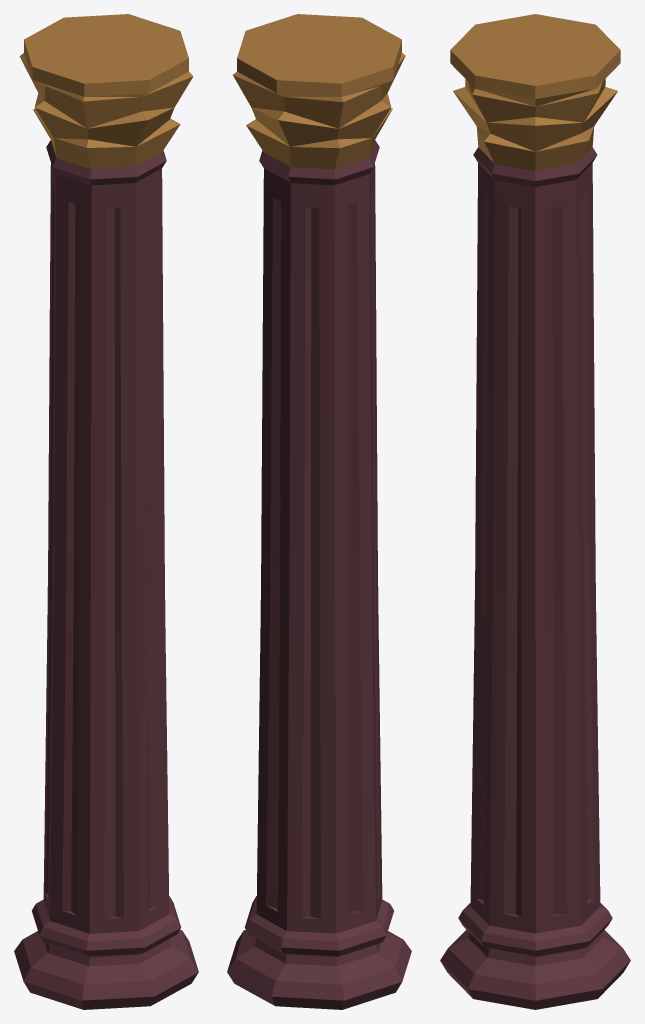
File: SM_Pillar_Corinthian_Big_Color_Empire.fbx
The picture shows the model from 3 angles, left to right: view 1: azimuth 30°, elevation 25°; view 2: azimuth 150°, elevation 25°; view 3: azimuth 270°, elevation 25°; orthographic projection.
Visible parts, largest first — view 1: SM_Pillar_Corinthian_Big_Color_Empire; view 2: SM_Pillar_Corinthian_Big_Color_Empire; view 3: SM_Pillar_Corinthian_Big_Color_Empire.
Boxes of the visible parts, x1,y1,x2,y2 form: SM_Pillar_Corinthian_Big_Color_Empire: (14,14,198,1009); SM_Pillar_Corinthian_Big_Color_Empire: (227,14,411,1009); SM_Pillar_Corinthian_Big_Color_Empire: (440,14,630,1009).
Size of the model in its own units: 1.88 by 10.01 by 1.88.
